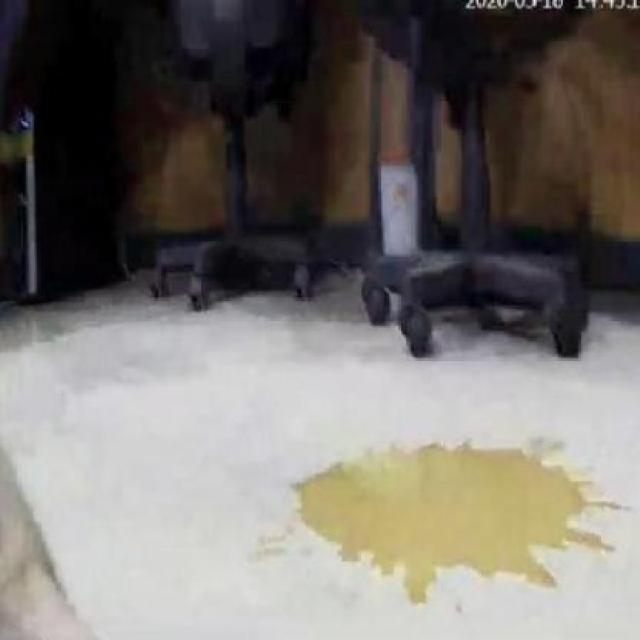spillage: (291, 444, 618, 605)
